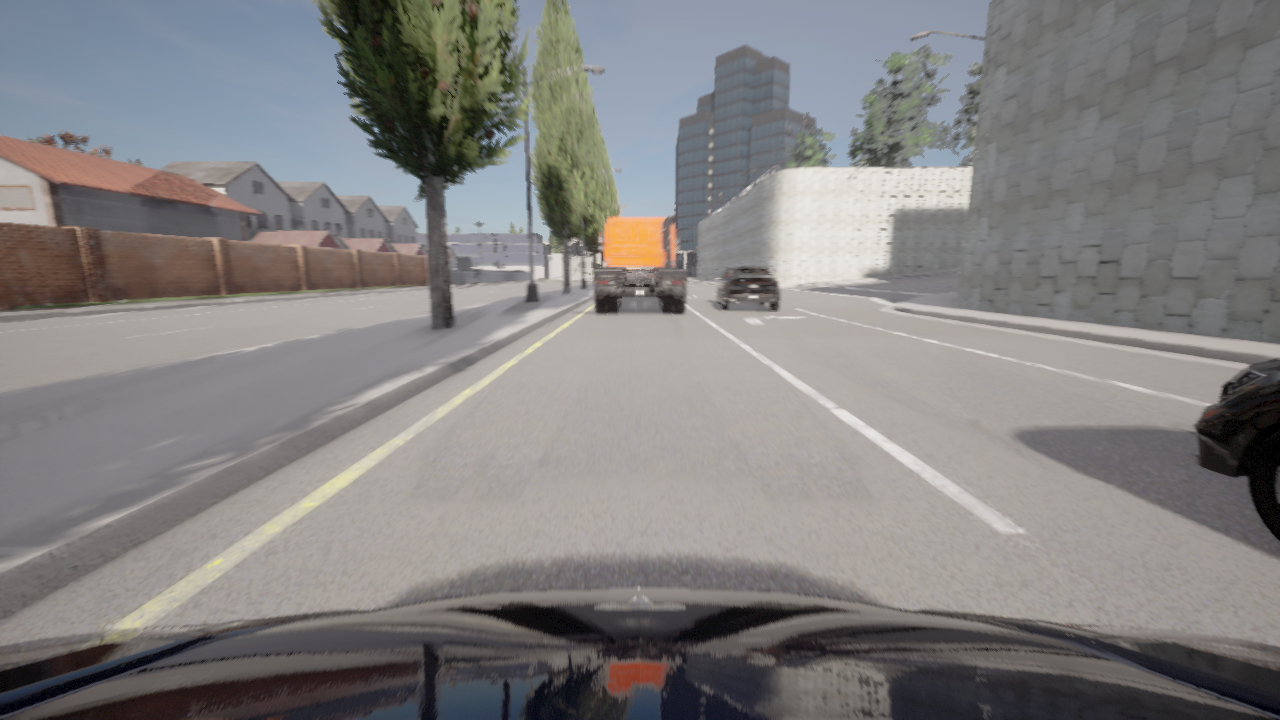cyclist: (0, 588, 1279, 719), (1191, 358, 1279, 541), (593, 214, 686, 312), (714, 264, 779, 310), (675, 266, 677, 269)
